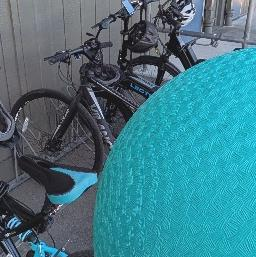algae: (95, 47, 256, 257)
